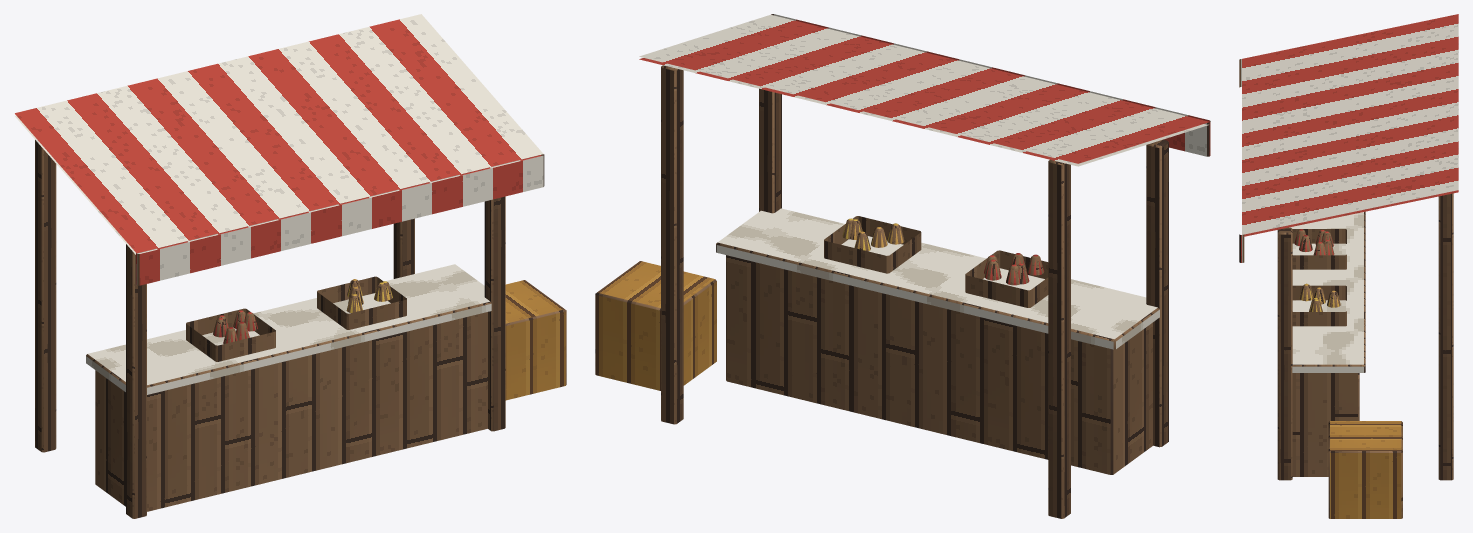
Rendered from market_stall_1.glb.
3 views of the same model, side by side, from view 1: azimuth 30°, elevation 25°; view 2: azimuth 150°, elevation 25°; view 3: azimuth 270°, elevation 25° (orthographic). The views are drawn at different scales.
Parts seen in each view (by area): view 1: market_stall_2; view 2: market_stall_2; view 3: market_stall_2.
Boxes of the visible parts, x1,y1,x2,y2 form: market_stall_2: [15, 14, 566, 518]; market_stall_2: [595, 14, 1210, 518]; market_stall_2: [1239, 14, 1458, 518].
Size of the model in its own units: 3.96 by 2.65 by 1.77.
Materials: 7 (7 with a texture image).
